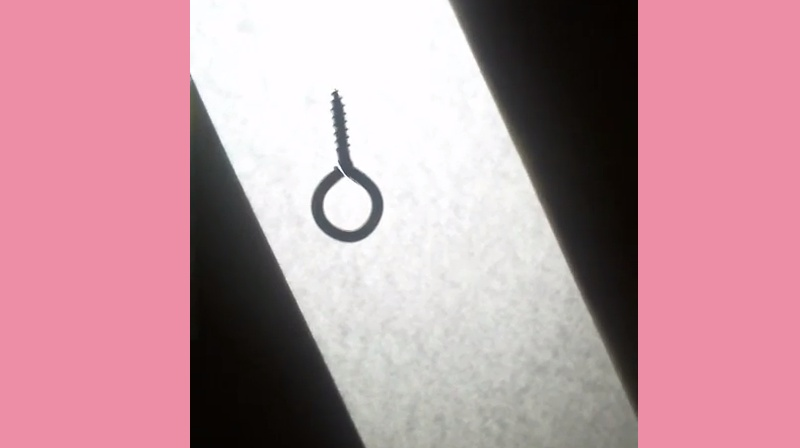O001: (307, 83, 385, 249)
